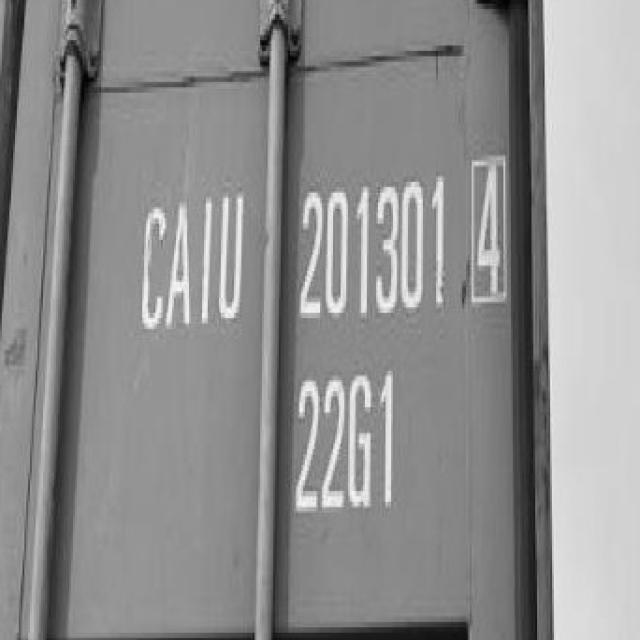dv: (465, 155, 513, 318)
owner: (127, 178, 258, 342)
serial: (296, 177, 455, 323)
size: (284, 364, 414, 514)
